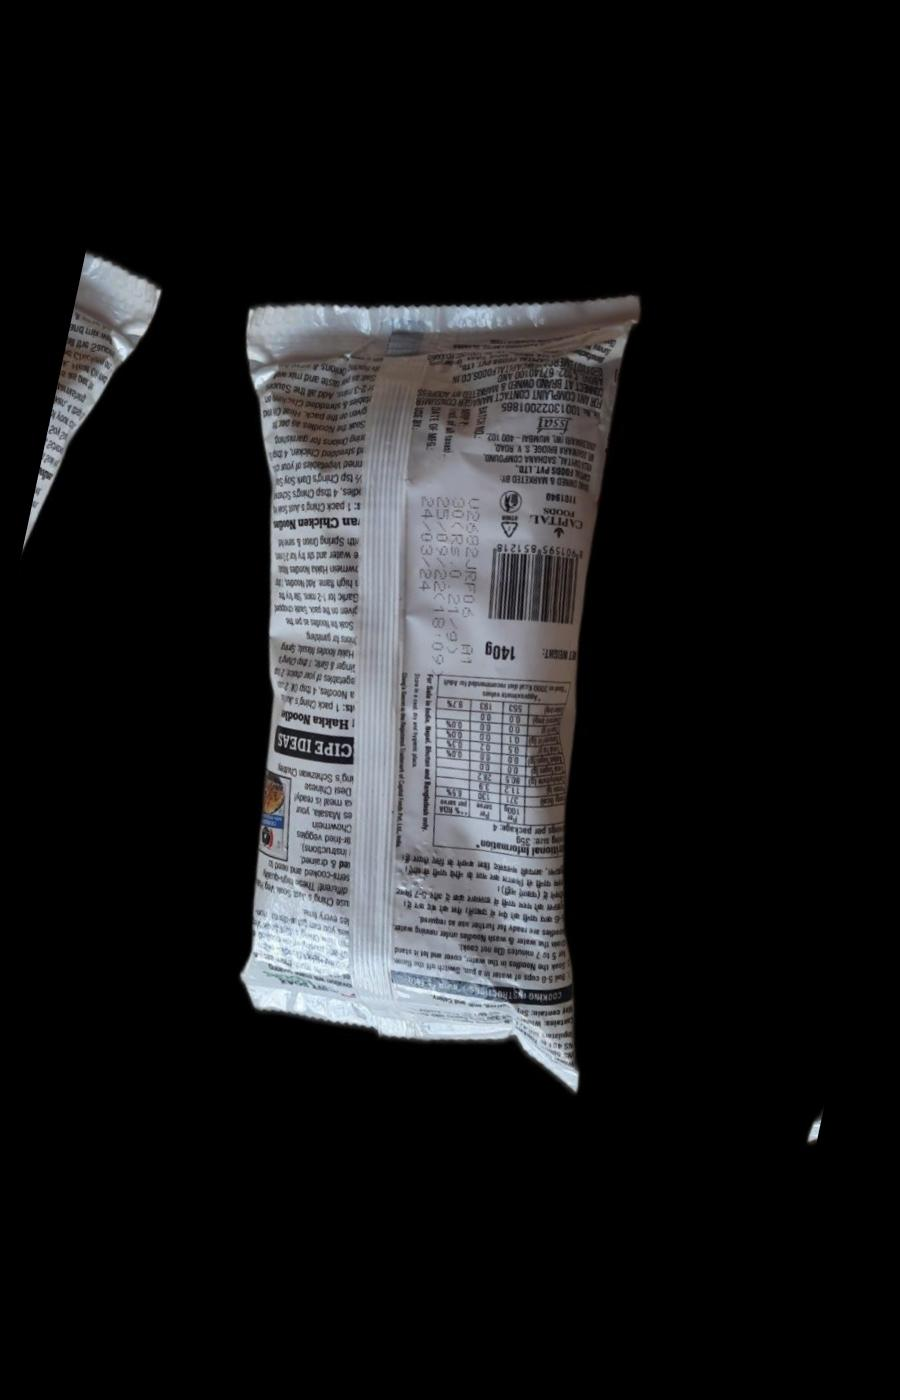Chings Secret Veg Hakka Noodles 140 g Pouch: (103, 213, 749, 1097)
